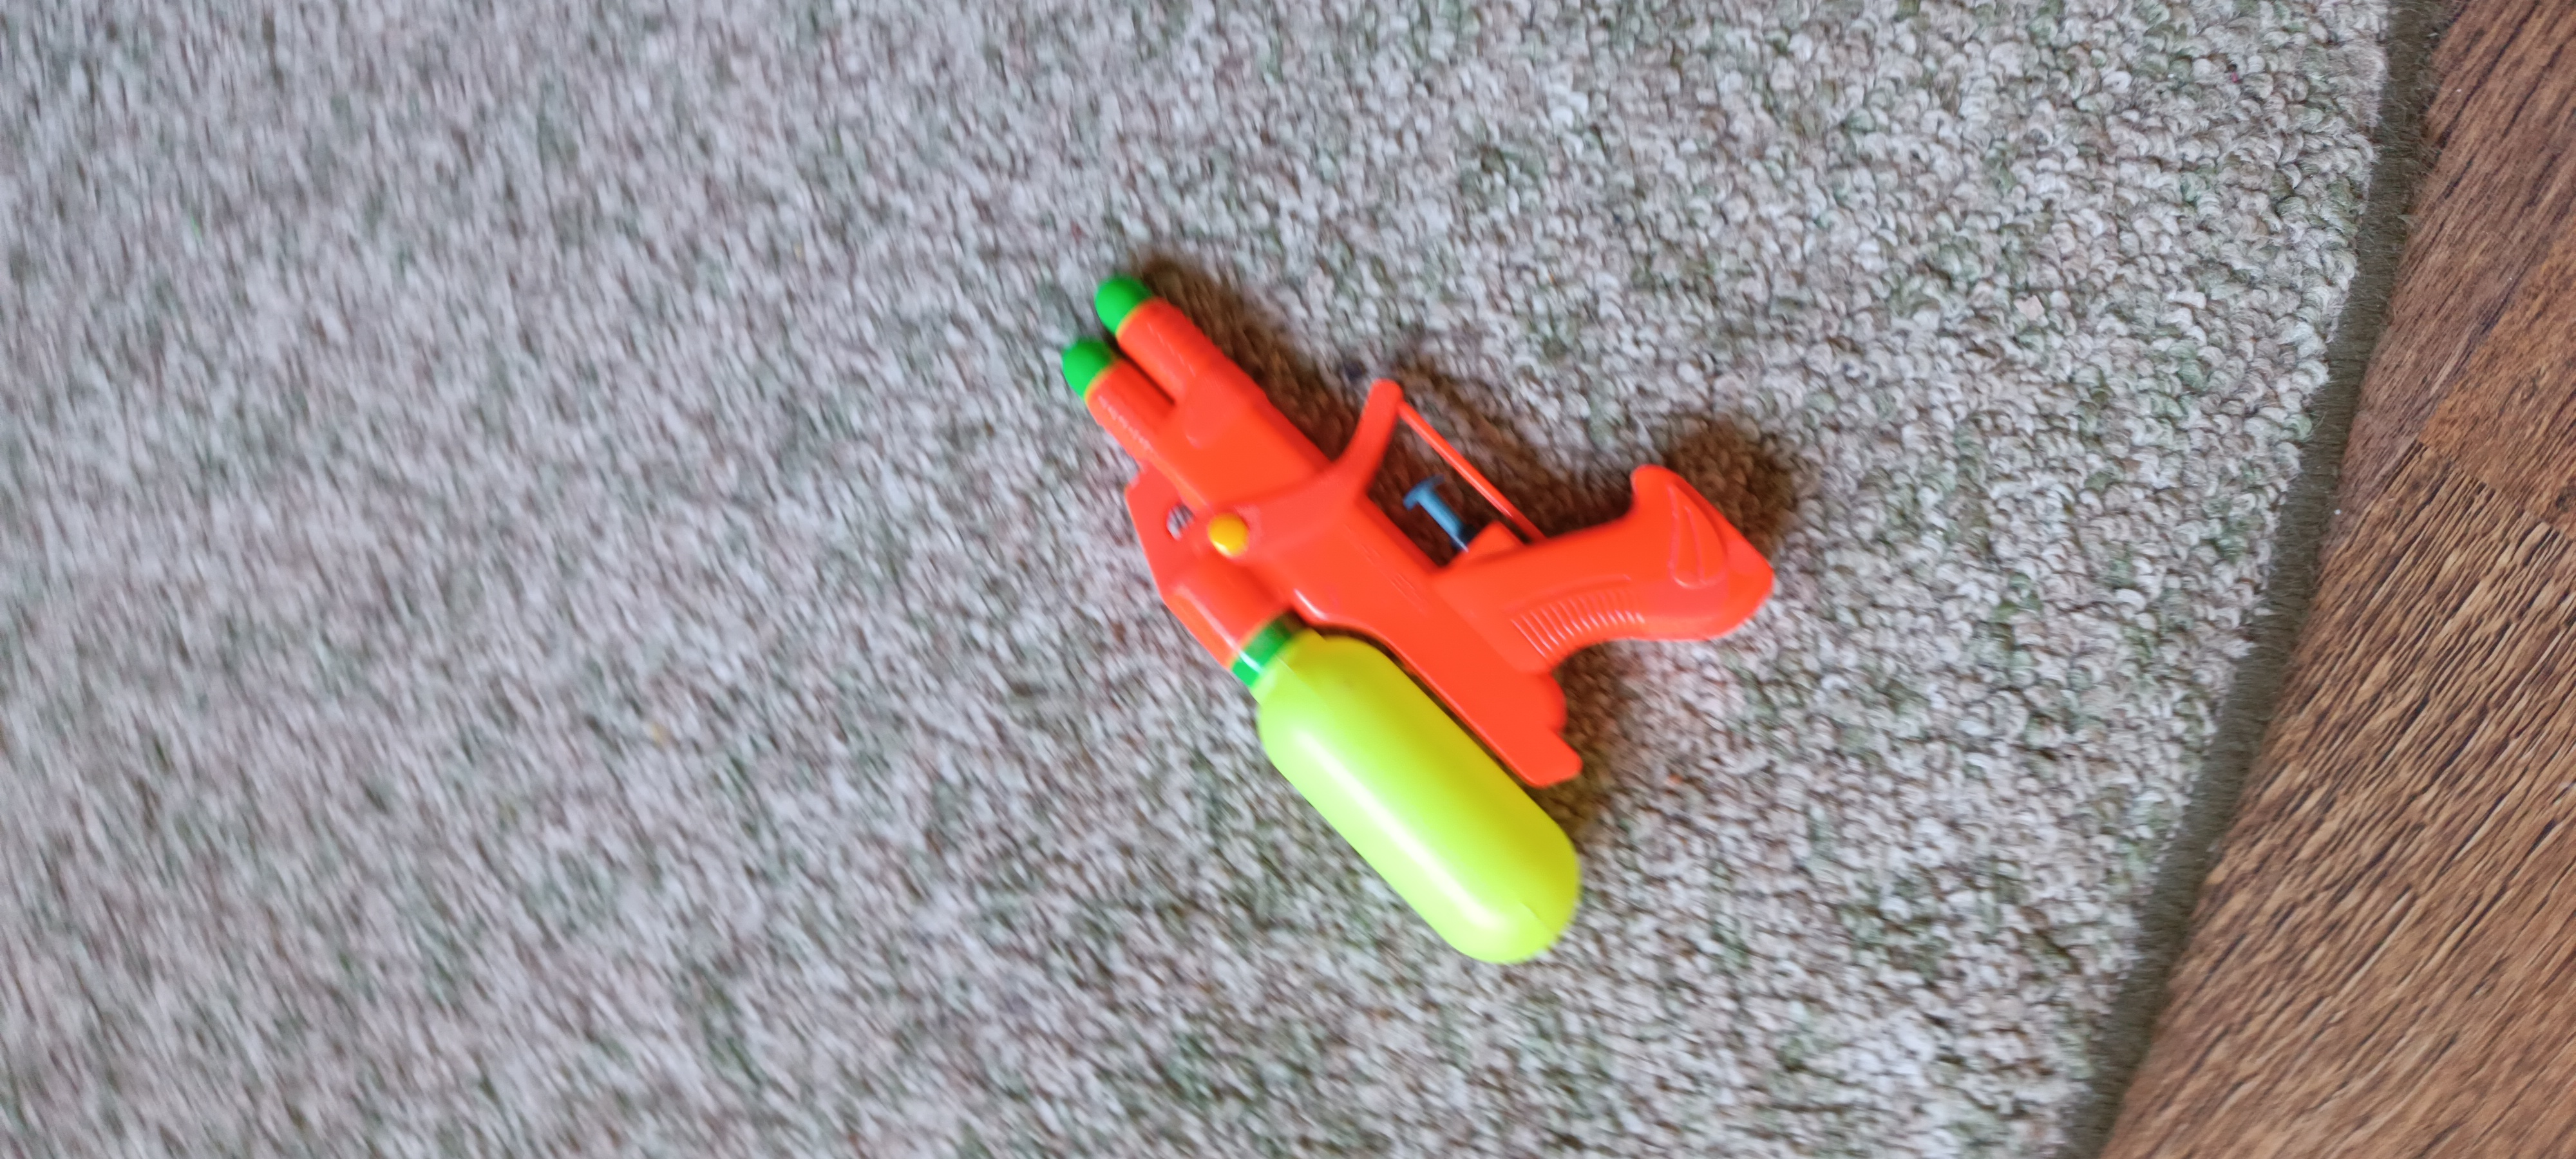Water Gun: (1061, 274, 1778, 965)
